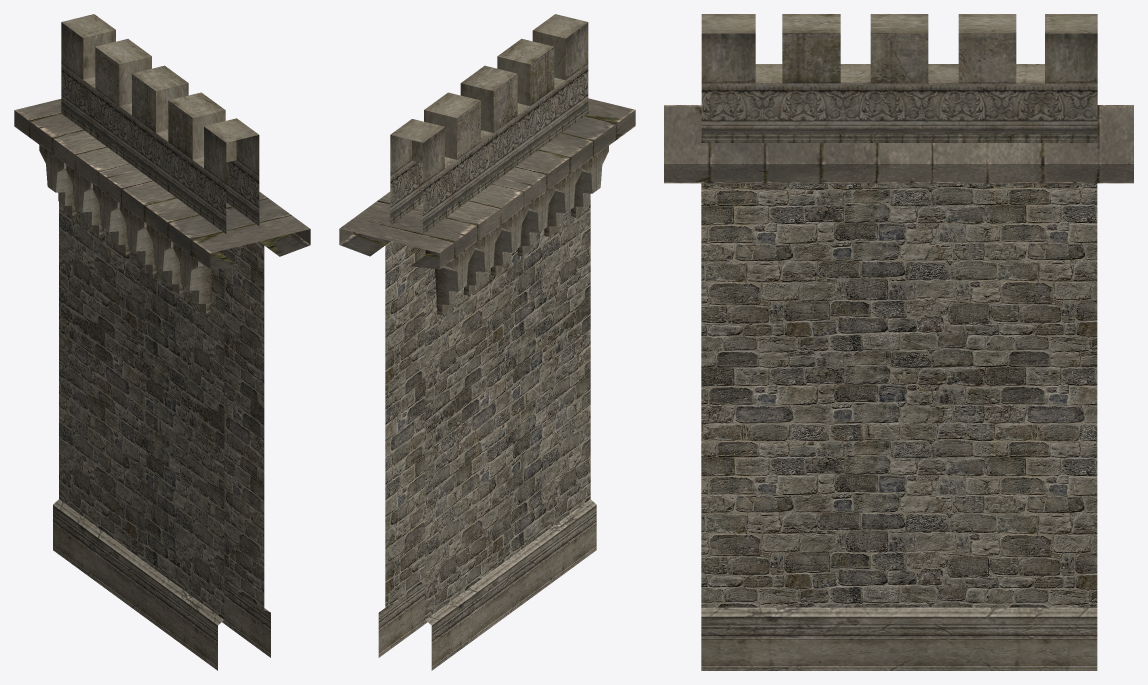
The model's file is SM_EN_2005_qiang01.FBX.
3 renders of one model, left to right at view 1: azimuth 30°, elevation 25°; view 2: azimuth 150°, elevation 25°; view 3: azimuth 270°, elevation 25°, orthographic. The views are drawn at different scales.
Visible parts, largest first — view 1: SM_EN_2005_qiang01a, SM_EN_2005_qiang01b; view 2: SM_EN_2005_qiang01a, SM_EN_2005_qiang01b; view 3: SM_EN_2005_qiang01a, SM_EN_2005_qiang01b.
Boxes of the visible parts, box(x1,y1,x2,y2) form: SM_EN_2005_qiang01a: box(59, 202, 264, 619); SM_EN_2005_qiang01b: box(14, 14, 310, 670); SM_EN_2005_qiang01a: box(385, 193, 590, 619); SM_EN_2005_qiang01b: box(339, 14, 635, 670); SM_EN_2005_qiang01a: box(701, 183, 1097, 607); SM_EN_2005_qiang01b: box(664, 14, 1133, 670).
Size of the model in its own units: 70.85 by 355 by 239.
